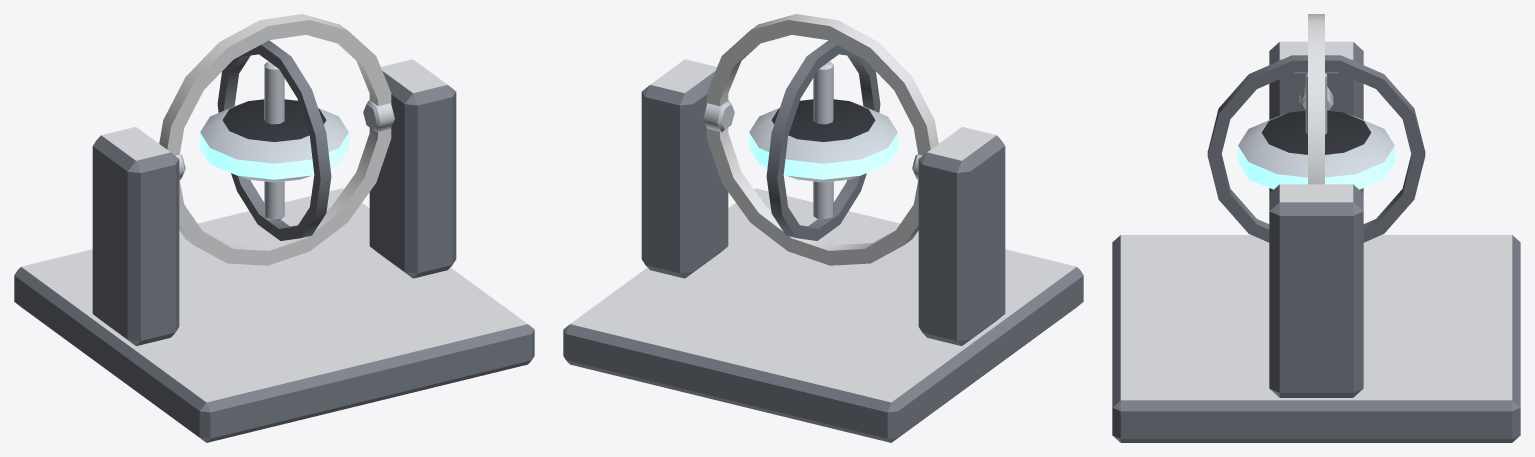
Rendered from R4X_Gyroscope_LOD1.fbx.
The picture shows the model from 3 angles, left to right: view 1: azimuth 30°, elevation 25°; view 2: azimuth 150°, elevation 25°; view 3: azimuth 270°, elevation 25°; orthographic projection. The views are drawn at different scales.
Parts seen in each view (by area): view 1: R4X_Gyroscope_LOD1; view 2: R4X_Gyroscope_LOD1; view 3: R4X_Gyroscope_LOD1.
Part boxes in pixels (bbox=[...]): R4X_Gyroscope_LOD1: bbox=[14, 14, 534, 442]; R4X_Gyroscope_LOD1: bbox=[563, 14, 1083, 442]; R4X_Gyroscope_LOD1: bbox=[1112, 14, 1520, 442].
Size of the model in its own units: 0.52 by 0.4678 by 0.52.
